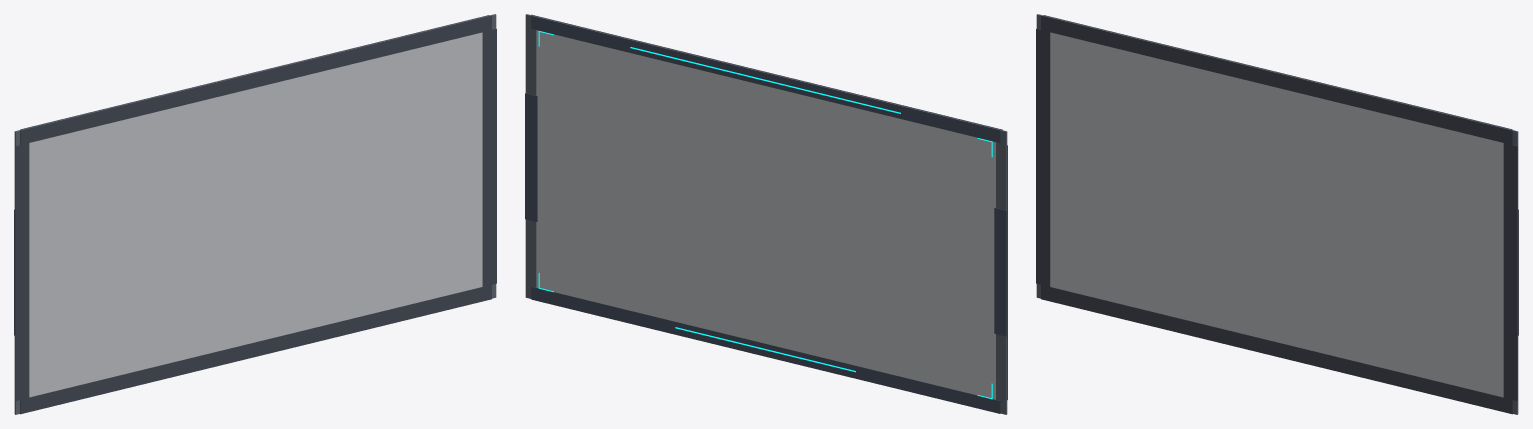
Rendered from screen_overlay_1.glb.
3 renders of one model, left to right at view 1: azimuth 30°, elevation 25°; view 2: azimuth 150°, elevation 25°; view 3: azimuth 330°, elevation 25°, orthographic.
Parts seen in each view (by area): view 1: Translucent_Clear_Screen, Solid_Back_Panel, Frame_005m_Thick, Solid_Front_Panel; view 2: Translucent_Clear_Screen, Solid_Front_Panel, Frame_005m_Thick, Cyan_Accents, Solid_Back_Panel; view 3: Translucent_Clear_Screen, Solid_Back_Panel, Frame_005m_Thick, Solid_Front_Panel.
Part boxes in pixels (x1,y1,x2,y2): Translucent_Clear_Screen: [29, 32, 482, 397]; Solid_Back_Panel: [15, 15, 496, 414]; Frame_005m_Thick: [14, 14, 496, 414]; Solid_Front_Panel: [14, 15, 489, 335]; Translucent_Clear_Screen: [536, 30, 995, 399]; Solid_Front_Panel: [525, 16, 1006, 413]; Frame_005m_Thick: [525, 14, 1007, 414]; Cyan_Accents: [538, 31, 992, 399]; Solid_Back_Panel: [531, 14, 1007, 399]; Translucent_Clear_Screen: [1050, 32, 1503, 397]; Solid_Back_Panel: [1036, 15, 1517, 414]; Frame_005m_Thick: [1036, 14, 1518, 414]; Solid_Front_Panel: [1043, 15, 1518, 335].
Bounding box in the file's own units: 1.6 × 0.902 × 0.0089.
